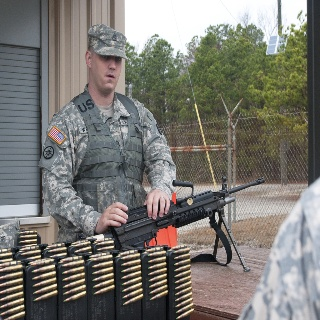rifle: (109, 172, 268, 254)
